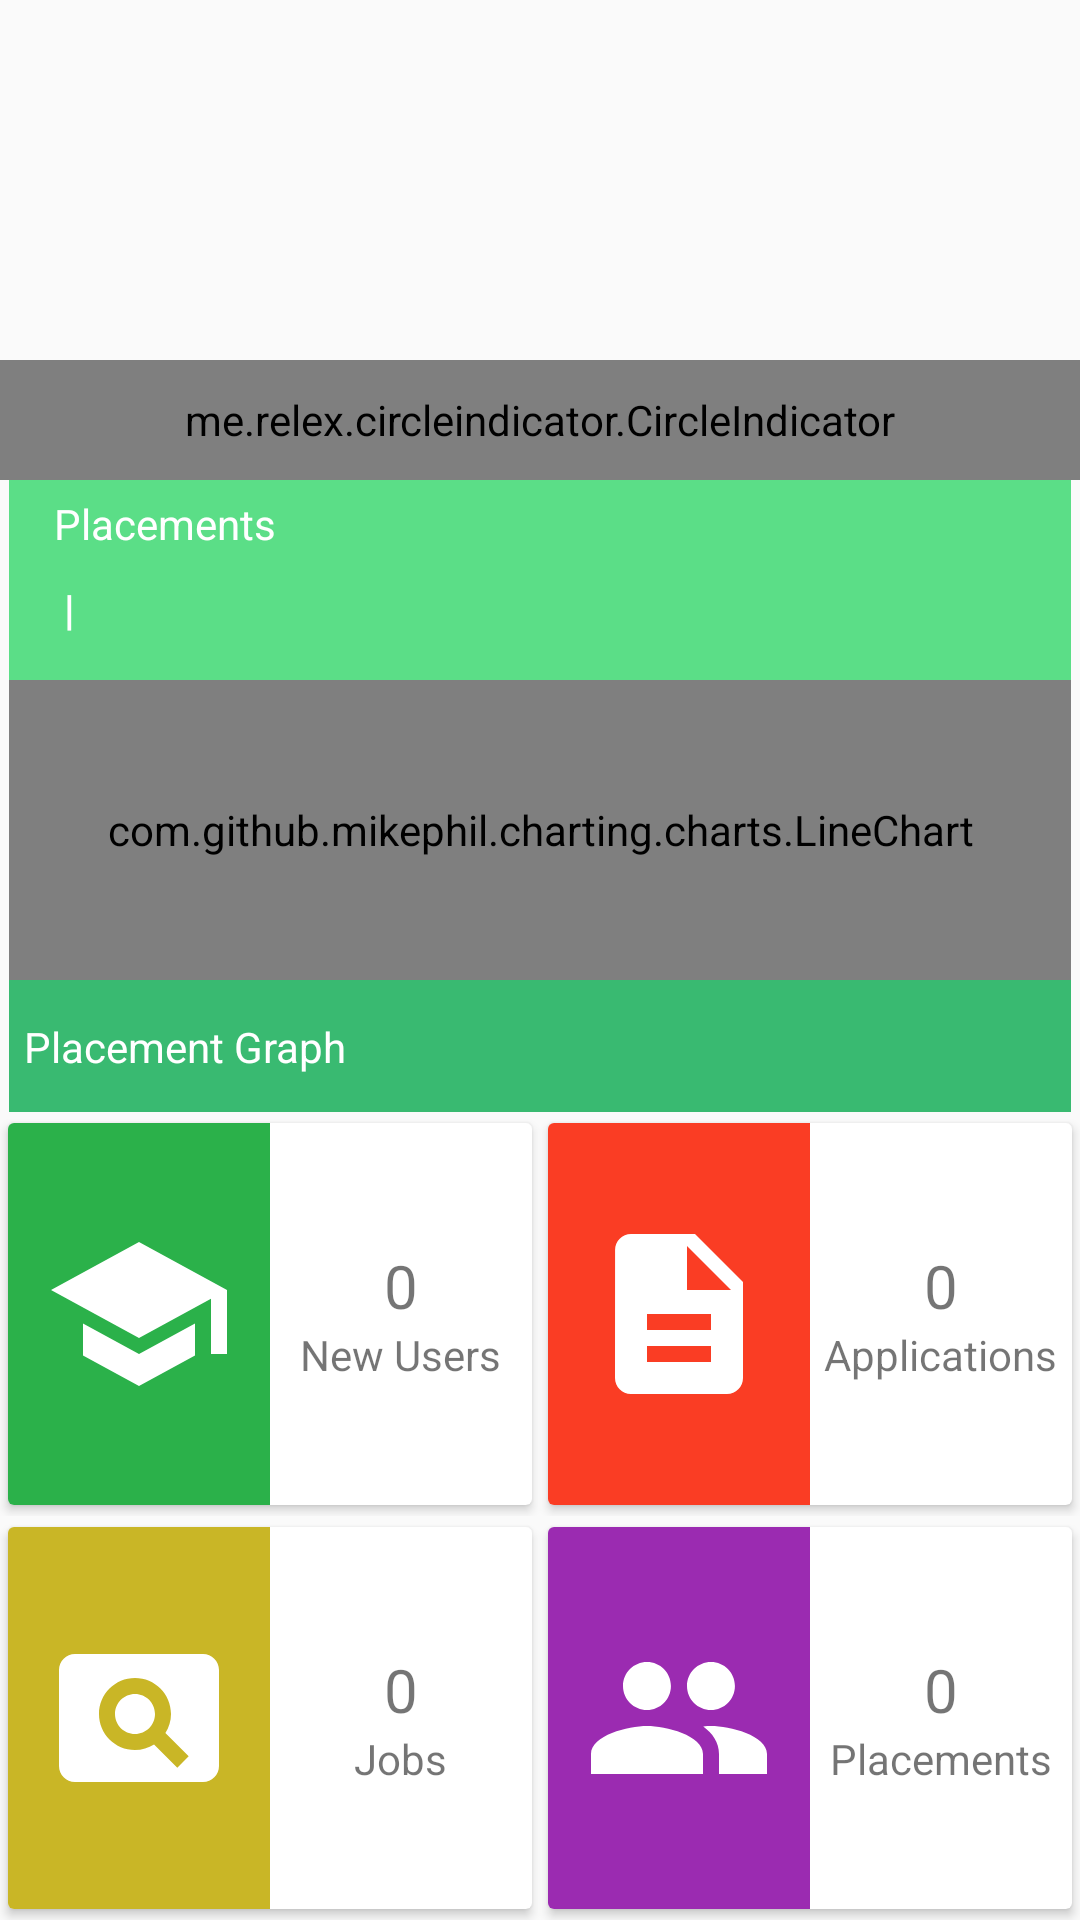

Icons on this 1080w x 1920h Android screen, each with its box as (x1, y1, x2, y2):
resumes: (615, 1234, 743, 1394)
